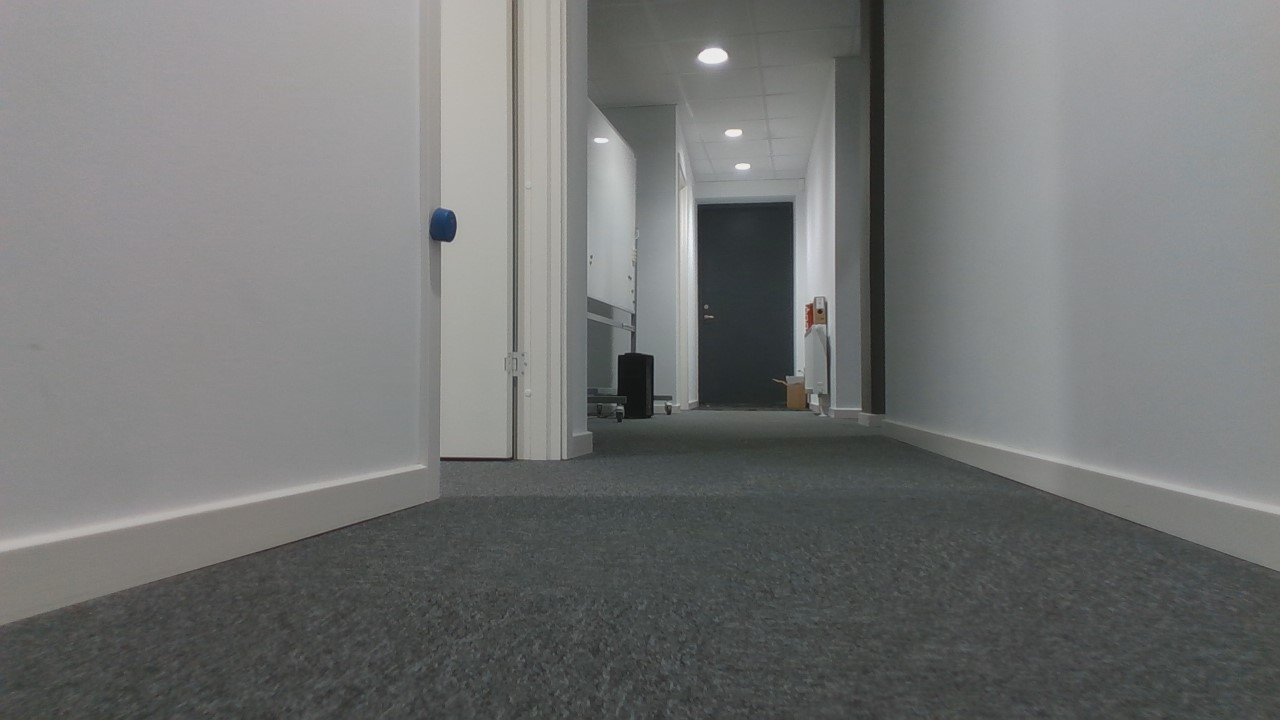alfa: (430, 203, 459, 244)
